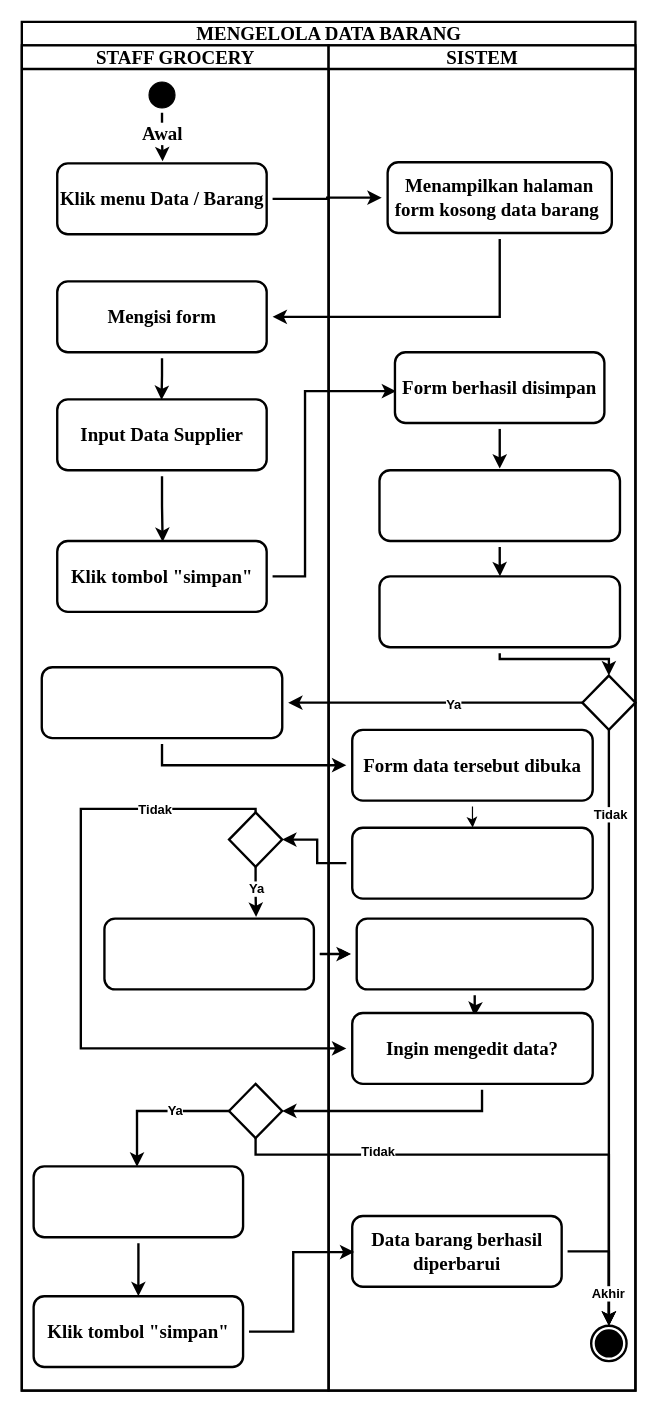
Image size: 656x1411. Some labels were removed from this diagram. Here are the shapes that lost their labels. From the top down, the centre of each, then its label:
the point at 499,505: Menampilkan daftar data barang yang disimpan
the point at 499,611: Ingin hapus / edit data?
the point at 161,702: Klik salah satu data barang
the point at 471,862: Ingin menghapus data?
the point at 208,953: Klik tombol "hapus"
the point at 474,953: Data tersebut berhasil dihapus
the point at 138,1201: Perbarui data
